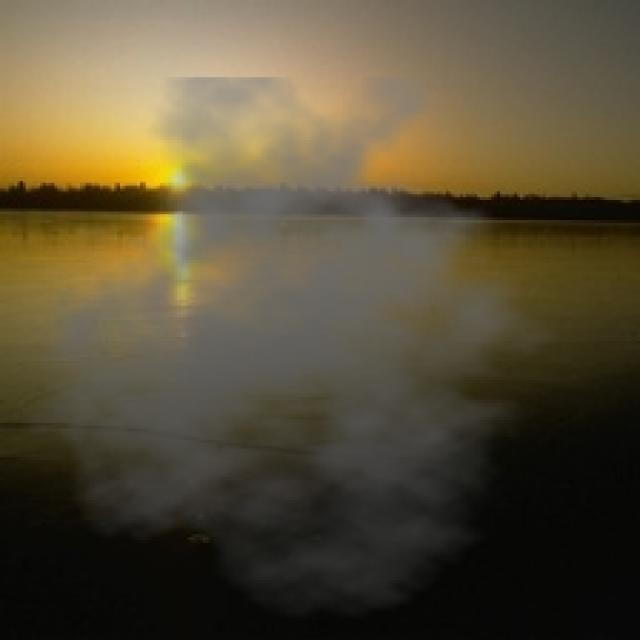smoke: (20, 77, 586, 620)
